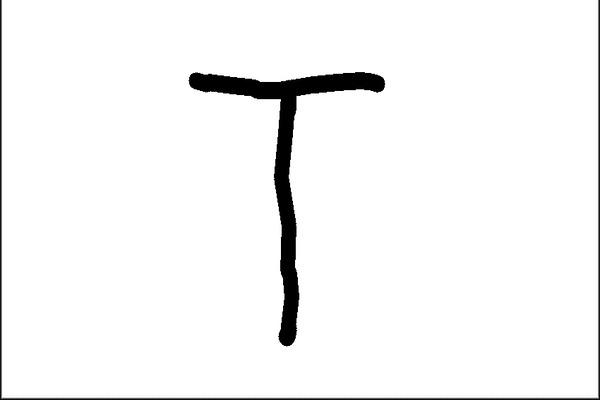T: (185, 62, 393, 346)
